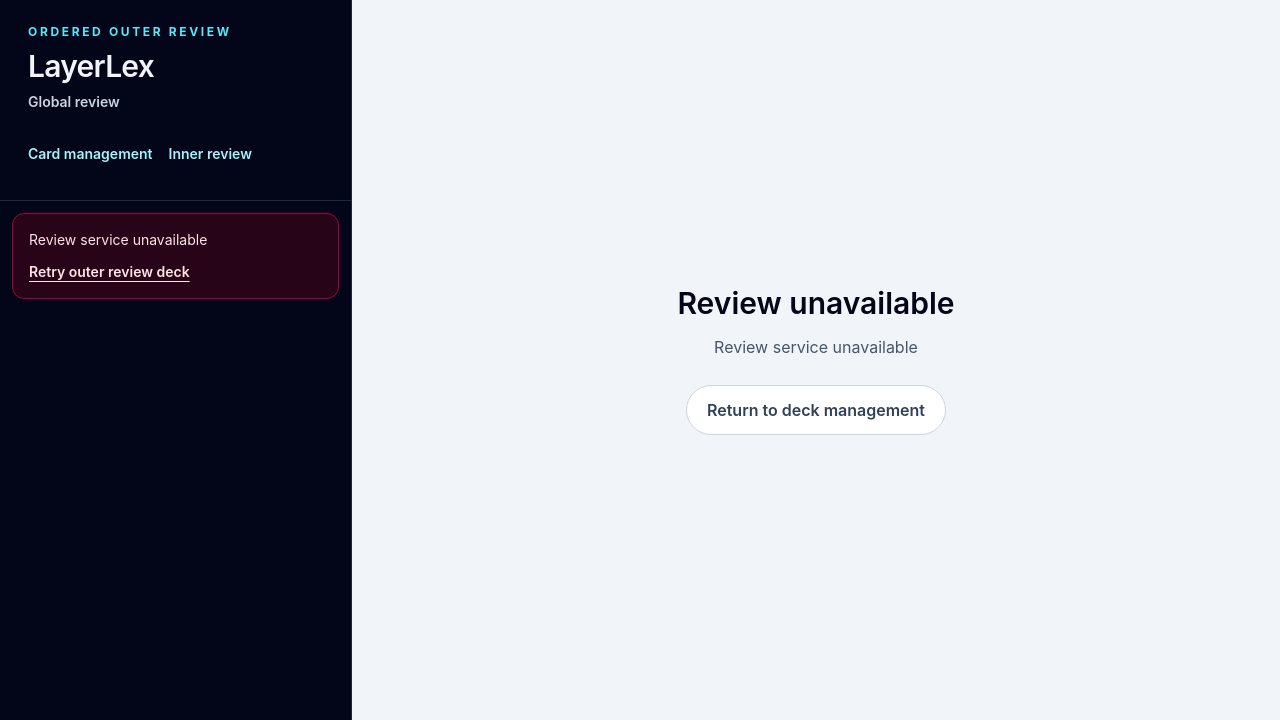
it: outer review deck states and routing › shows an API error and retries the complete deck
Expected: the message shows "Review service unavailable", [29, 231, 207, 248]
Click the button "Retry outer review deck": (109, 272) [29, 262, 190, 282]
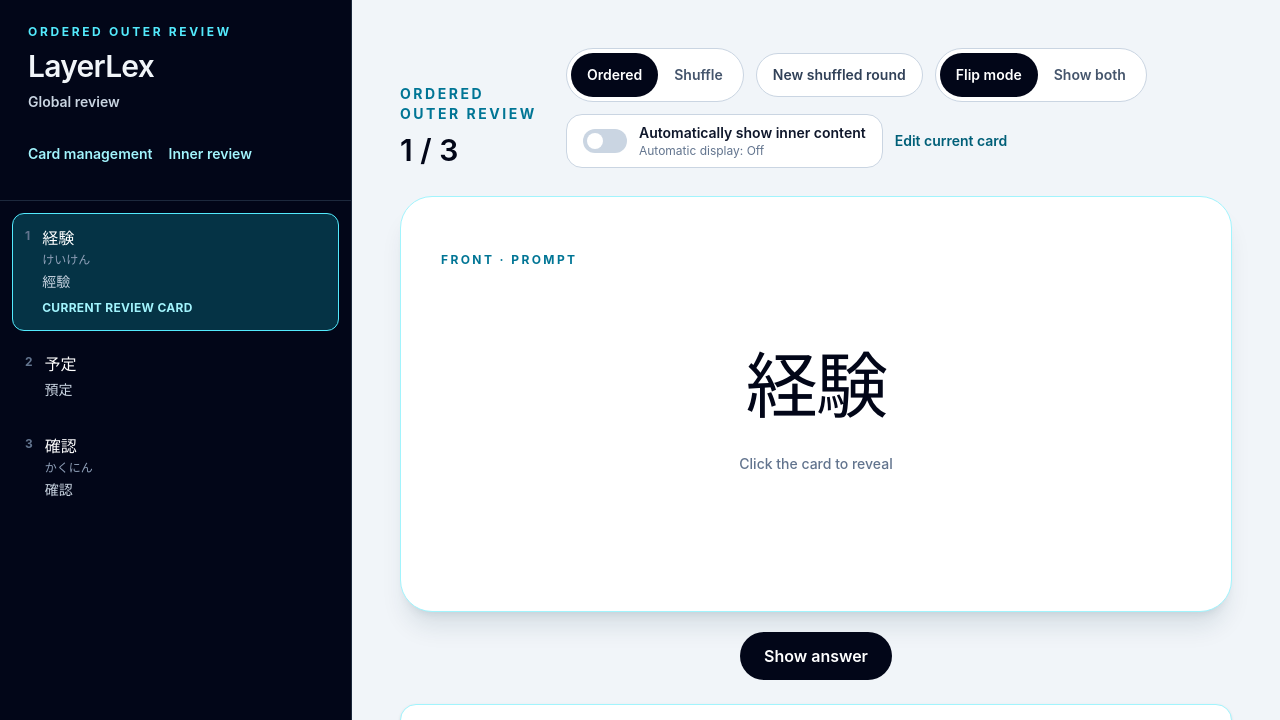
Now the text named "Review progress" reads "1 / 3", box [400, 132, 458, 168]
